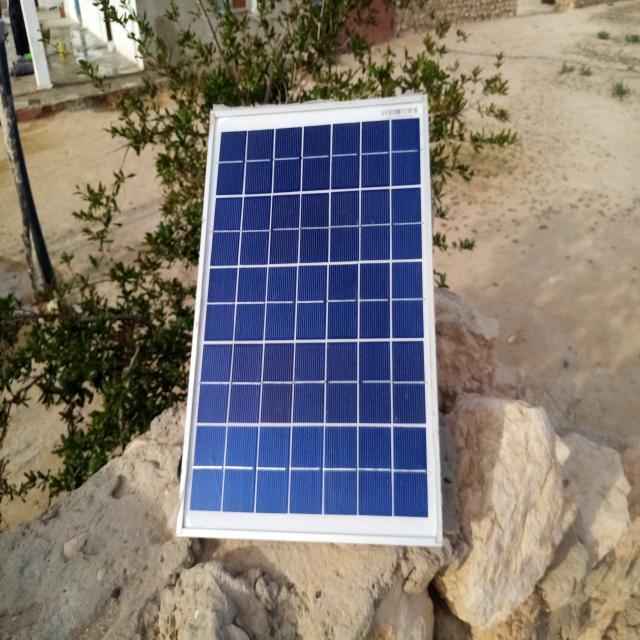no faulty: (180, 98, 440, 542)
